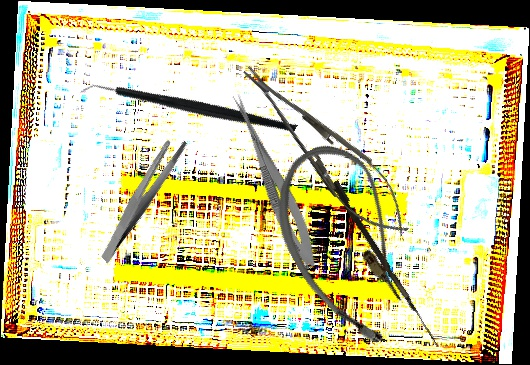Cannula: (250, 129, 446, 359)
Chopper: (78, 18, 298, 203)
Dressing Forceps: (73, 131, 211, 265)
Hook Surgical: (328, 180, 446, 347)
Micro Scissor: (221, 90, 325, 273)
Needle Holder: (227, 50, 425, 251)
